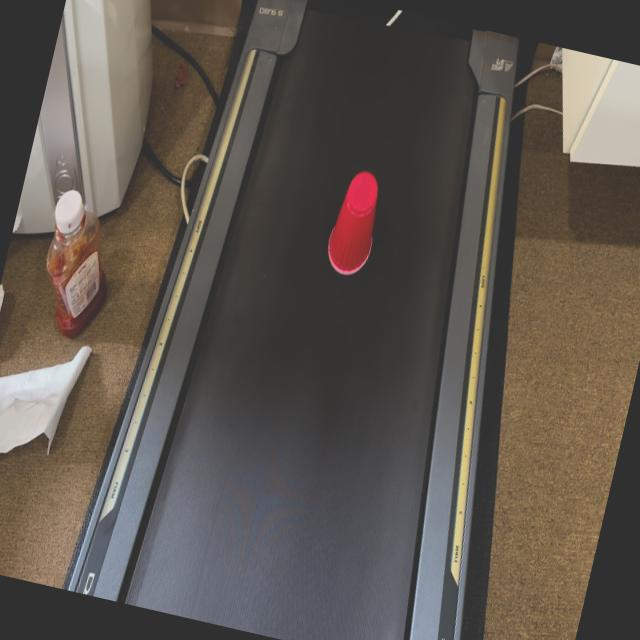Recycle: (320, 165, 388, 279)
